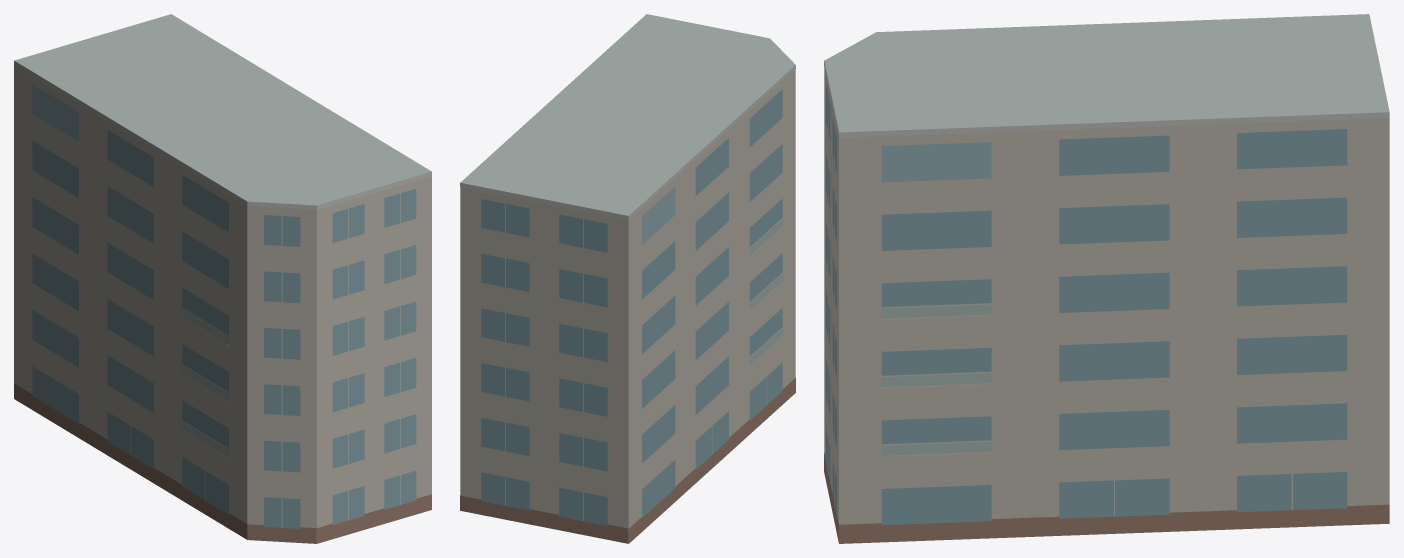
Rendered from survey-upis-32664199.glb.
3 renders of one model, left to right at view 1: azimuth 30°, elevation 25°; view 2: azimuth 150°, elevation 25°; view 3: azimuth 270°, elevation 25°, orthographic. The views are drawn at different scales.
Visible parts, largest first — view 1: survey-upis-32664199.tmp; view 2: survey-upis-32664199.tmp; view 3: survey-upis-32664199.tmp.
Boxes of the visible parts, x1=… form: survey-upis-32664199.tmp: x1=14, y1=14, x2=431, y2=543; survey-upis-32664199.tmp: x1=460, y1=14, x2=795, y2=543; survey-upis-32664199.tmp: x1=824, y1=14, x2=1389, y2=543.
Bounding box in the file's own units: 11.31 × 18.3 × 22.81.
